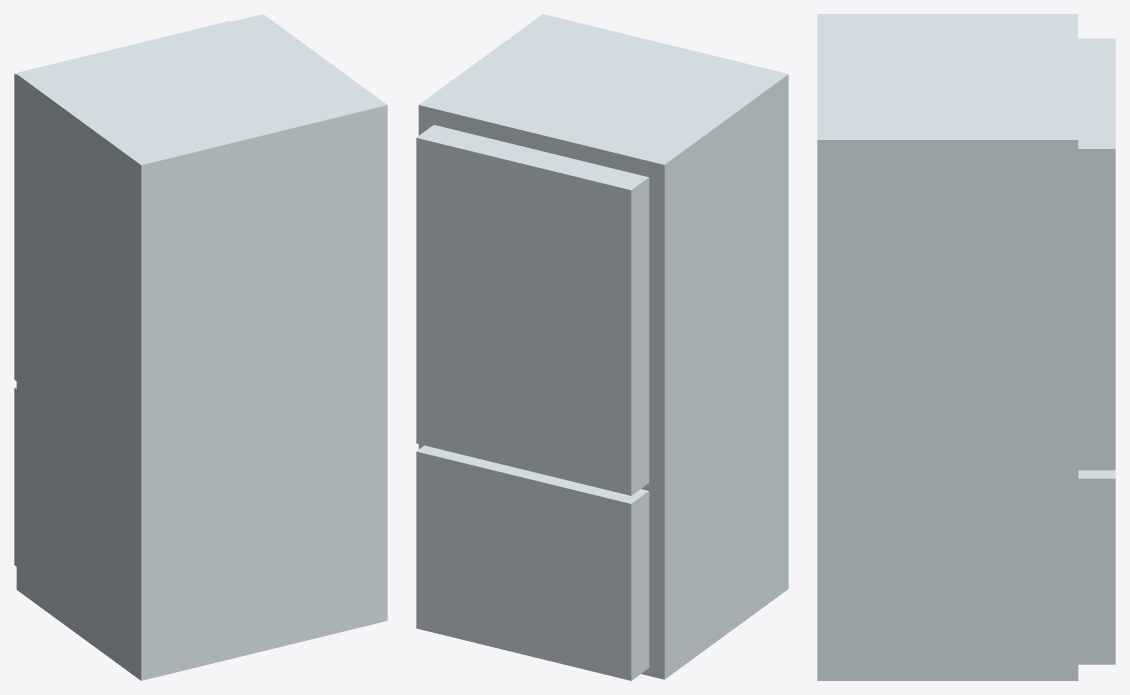
Rendered from fridge.gltf.
The picture shows the model from 3 angles, left to right: view 1: azimuth 30°, elevation 25°; view 2: azimuth 150°, elevation 25°; view 3: azimuth 270°, elevation 25°; orthographic projection. The views are drawn at different scales.
Visible parts, largest first — view 1: mesh (×4), group; view 2: mesh (×5), group; view 3: mesh (×5), group.
Boxes of the visible parts, x1,y1,x2,y2 form: mesh (×4): [16, 14, 387, 680]; group: [14, 21, 230, 380]; mesh (×5): [416, 14, 788, 680]; group: [416, 125, 649, 495]; mesh (×5): [817, 14, 1115, 680]; group: [1078, 38, 1115, 470].
Bounding box in the file's own units: 1 × 2 × 1.
1 material, 1 textured.
